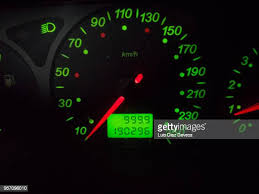Digital_Meter: (106, 113, 153, 139)
